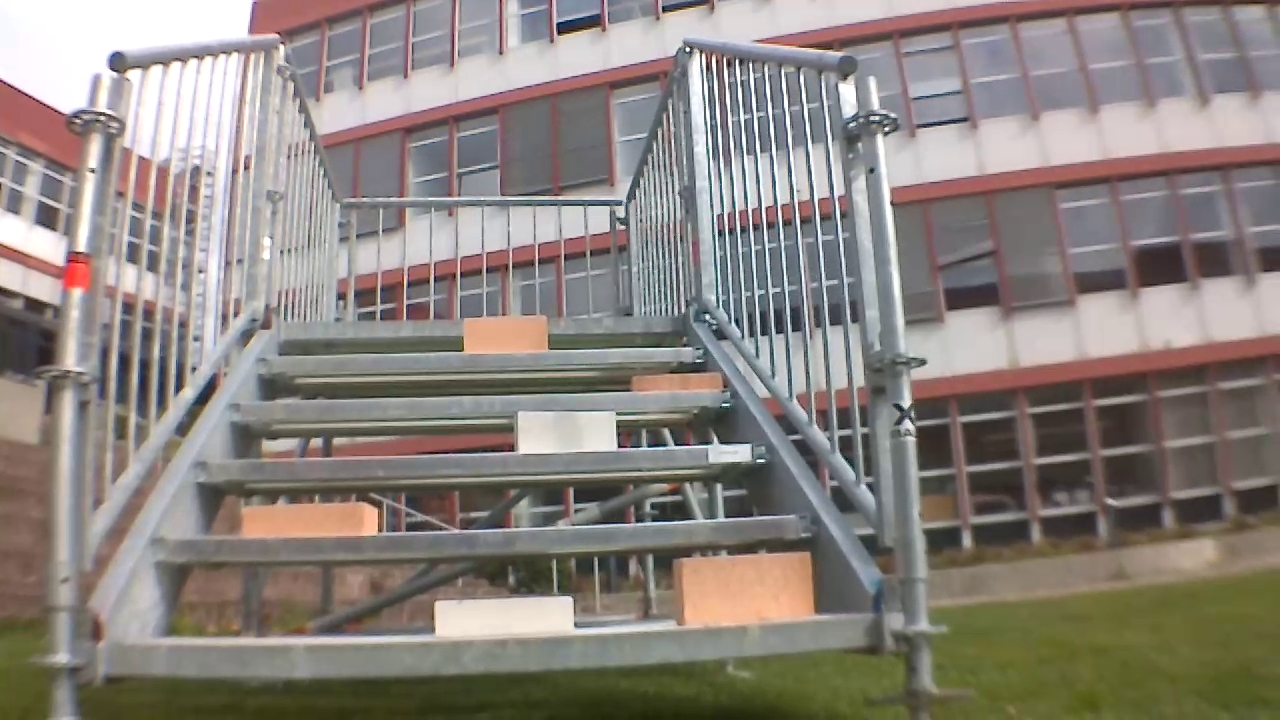brick: (670, 553, 819, 623), (427, 591, 575, 635), (231, 499, 385, 533), (516, 411, 616, 453), (461, 313, 546, 353), (628, 369, 726, 394)
edge: (112, 616, 887, 687), (154, 515, 818, 573), (195, 443, 768, 488), (225, 390, 734, 428), (251, 349, 708, 376), (281, 314, 682, 338)
stairs: (61, 33, 908, 693)
steps: (91, 314, 881, 677)
